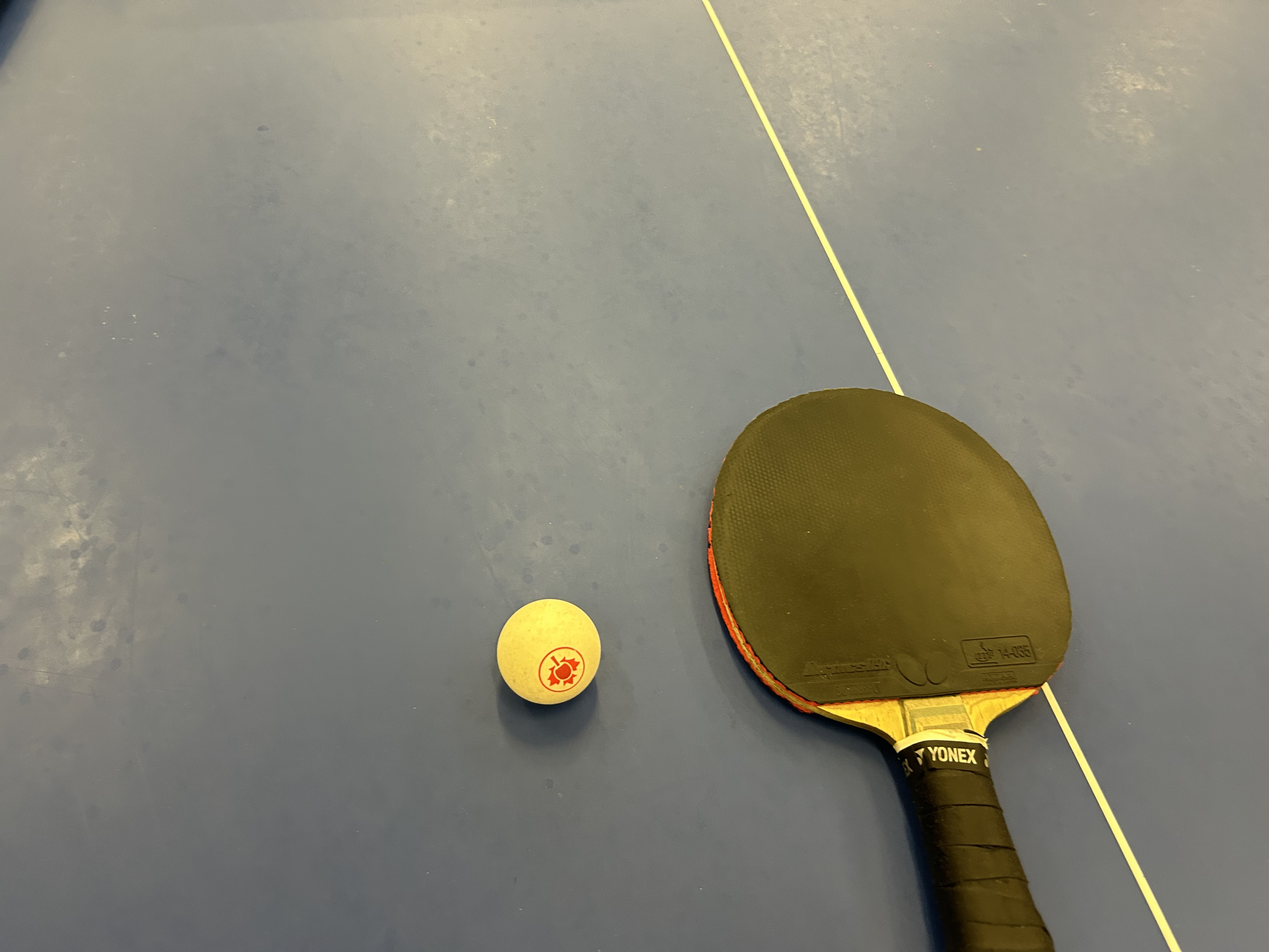Ball: (486, 598, 642, 721)
